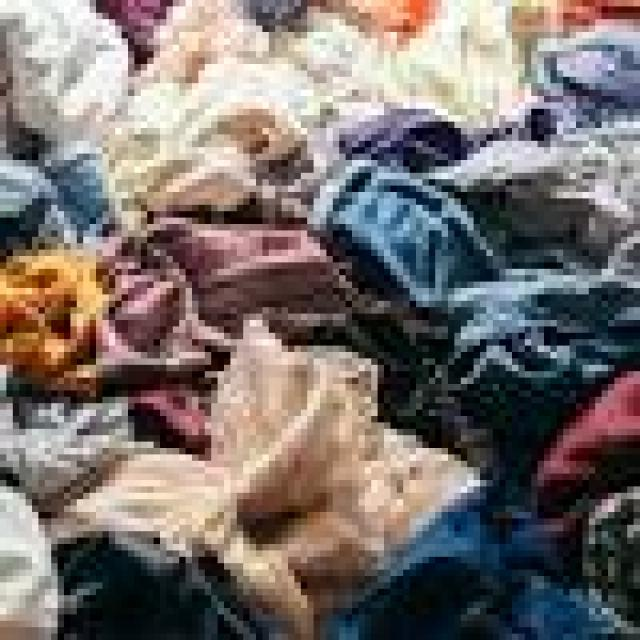Clothes -Biodegradable-: (2, 0, 640, 640)
